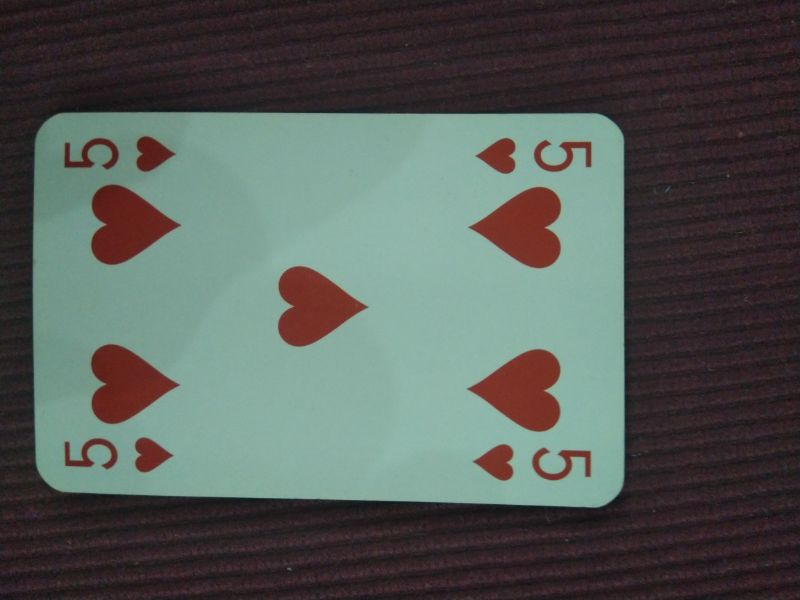5h: (465, 440, 602, 490), (472, 132, 603, 178), (55, 427, 176, 476), (55, 133, 185, 176)
